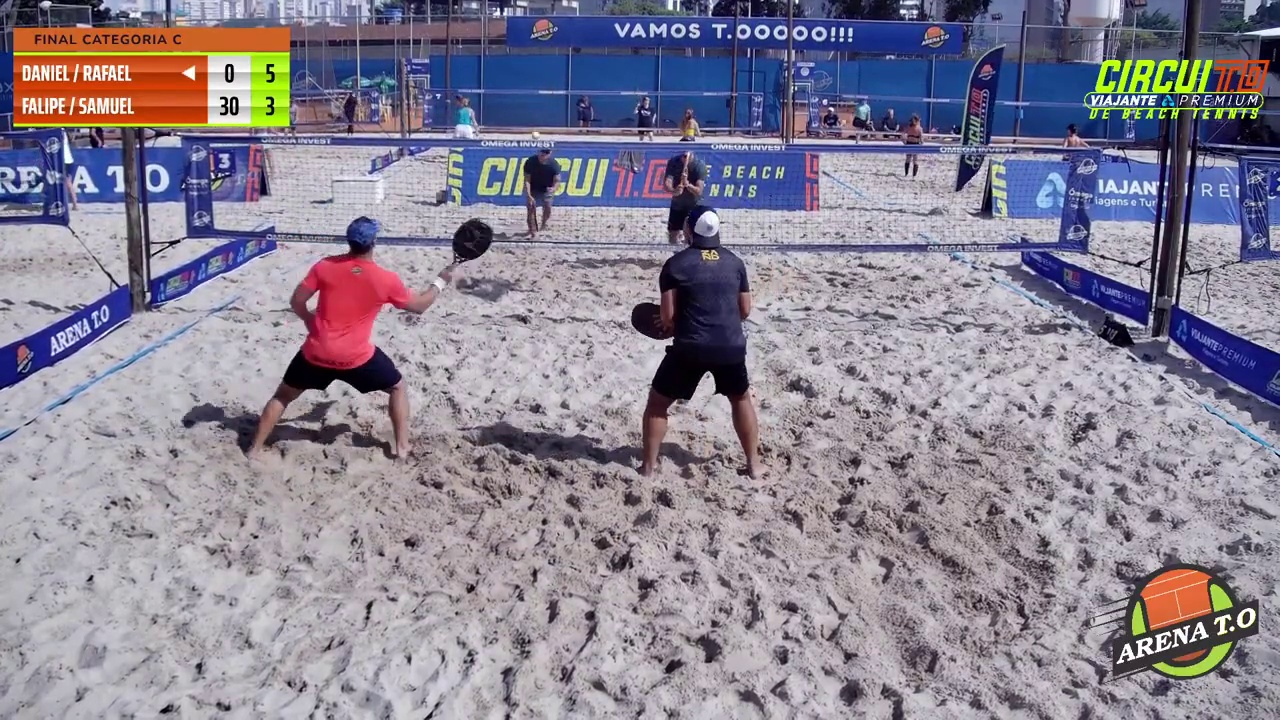court_line: (538, 0, 669, 452)
